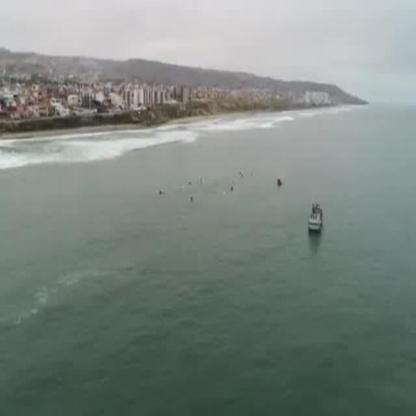Boat: (302, 204, 326, 235)
